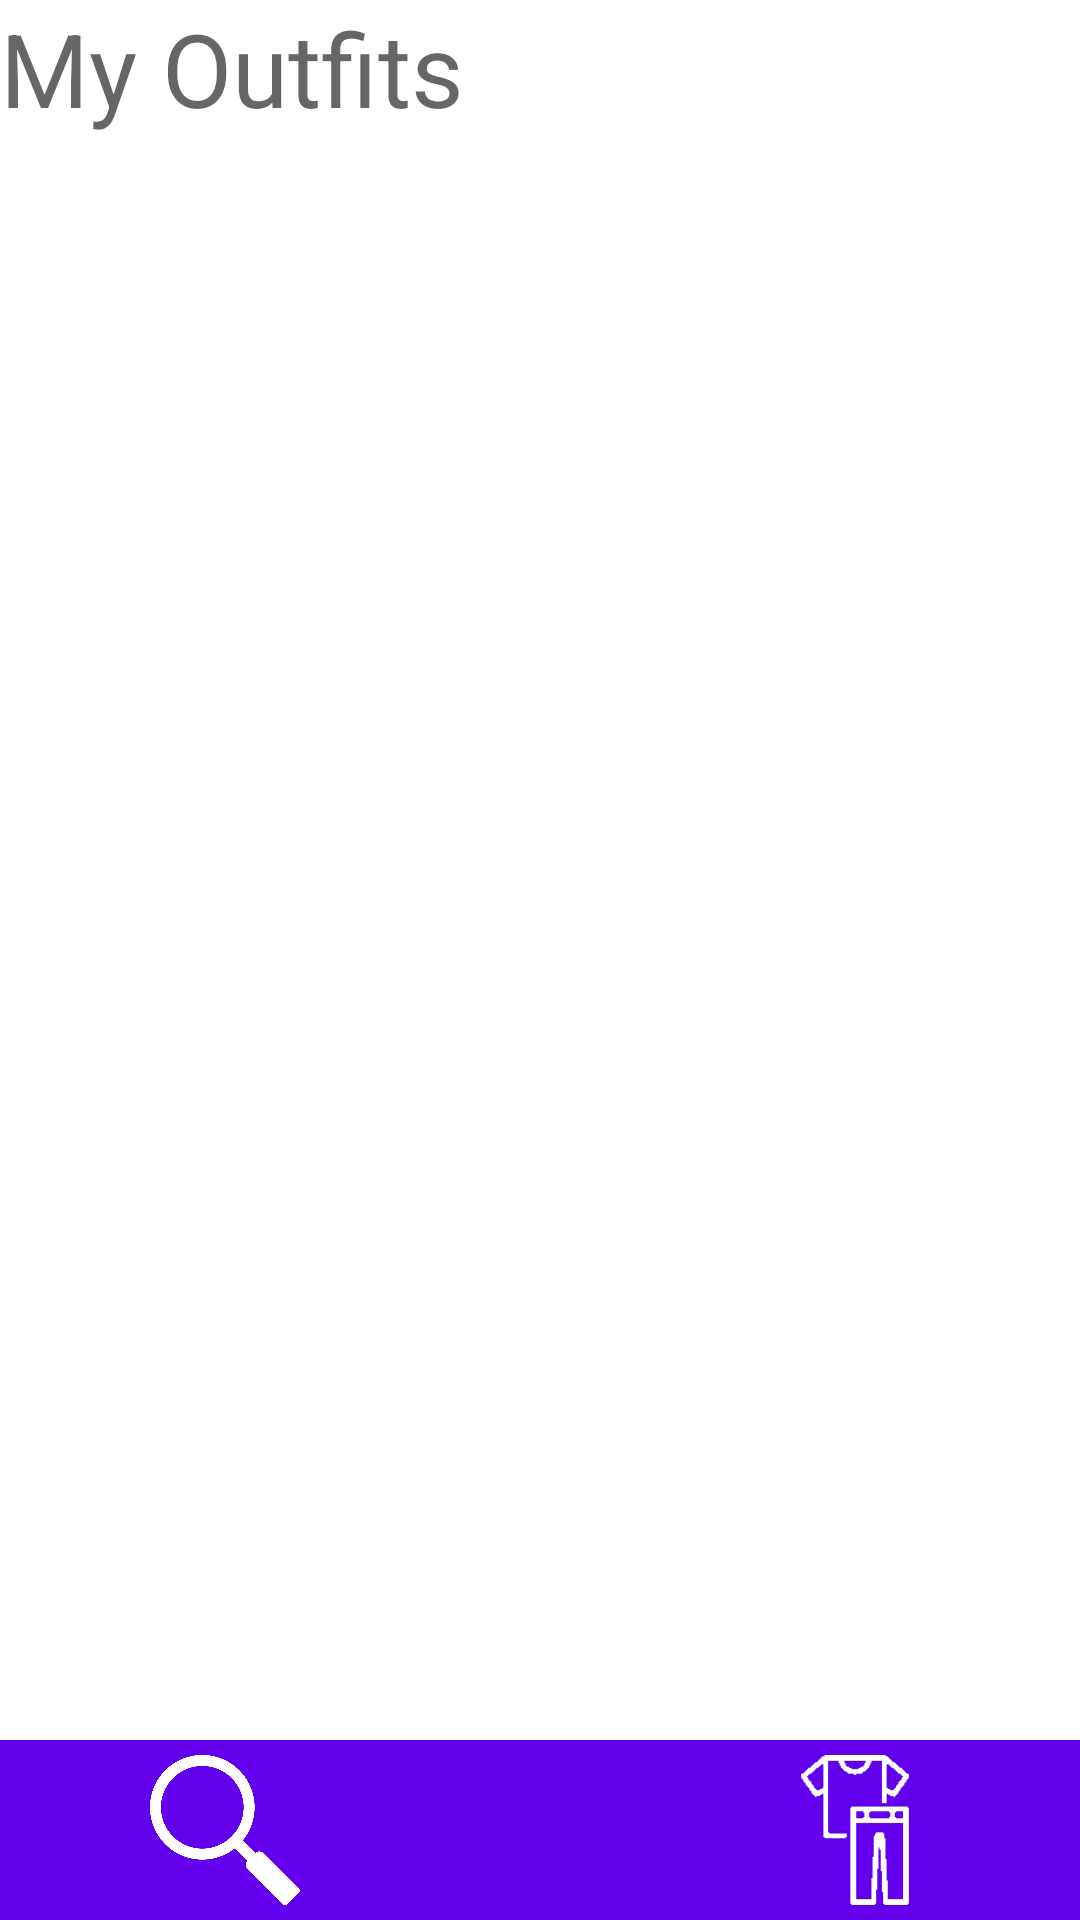

Named icons in this screenshot (1080px x 1920px) and their centers, [x,y]:
magnifyingglass: [225,1830]
outfiticon: [855,1830]
